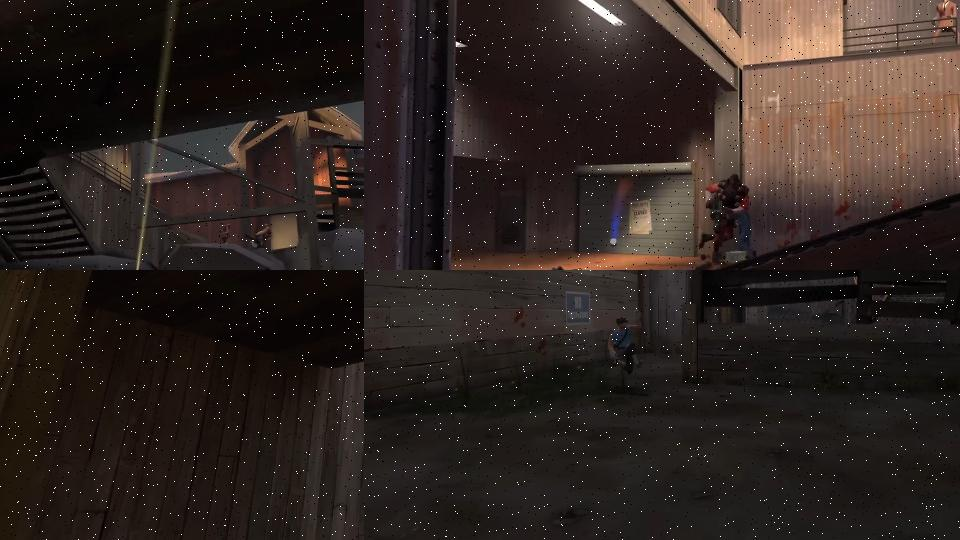Enemy: (699, 174, 751, 265), (606, 308, 644, 375), (930, 0, 960, 45), (735, 203, 758, 257), (244, 223, 273, 248), (219, 221, 231, 245)
